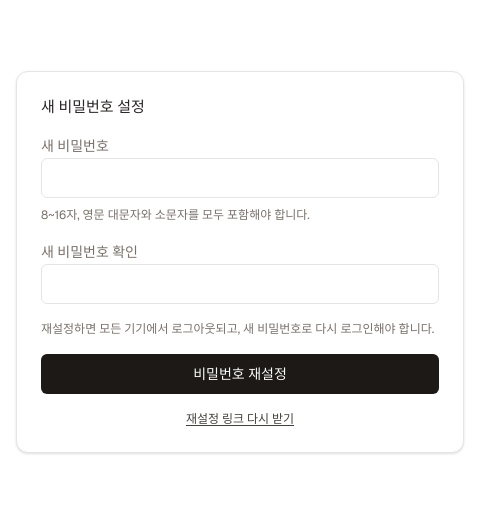
it: ResetPasswordPage › shows the server's sentence for a spent link and stays on the page
The width and height of the screenshot is (481, 526).
Step 1. Type "NewPassw0rd" into the password field labelled "새 비밀번호" → (240, 178), box [41,158,439,198]
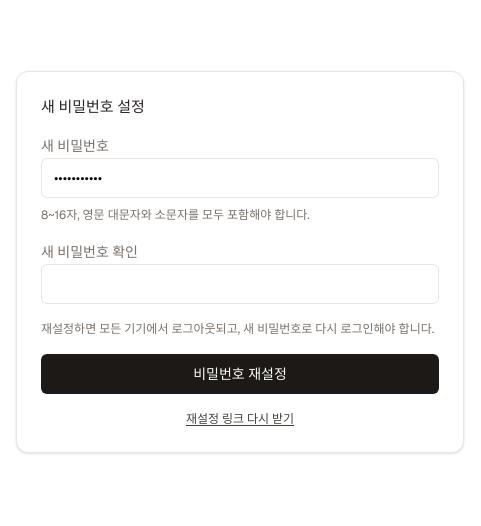
Step 2. Type "NewPassw0rd" into the password field labelled "새 비밀번호 확인" → (240, 284), box [41,264,439,304]
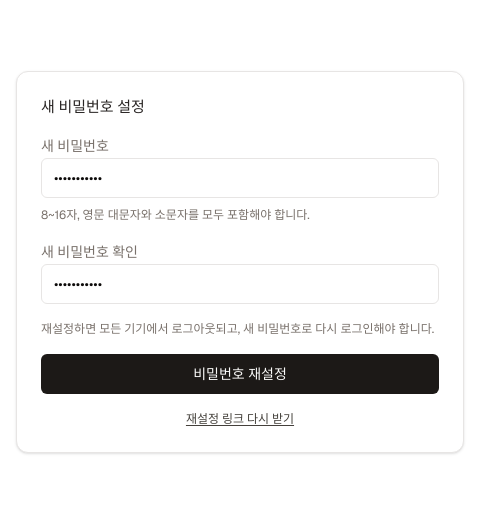
Step 3. Click the button "비밀번호 재설정" → (240, 374), box [41,354,439,394]
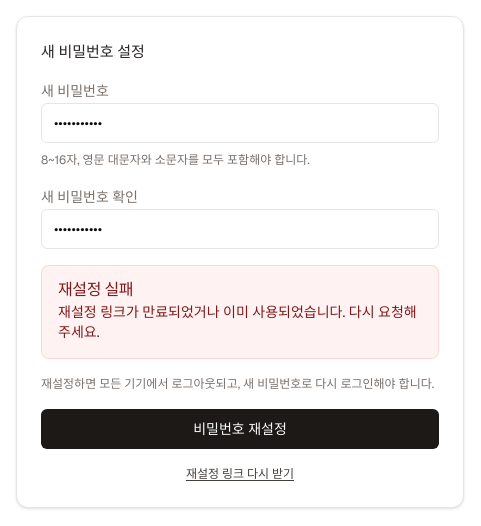
Expected: the button "비밀번호 재설정" is shown, [41,409,439,449]
Expected: the text "재설정 링크가 만료되었거나 이미 사용되었습니다. 다시 요청해 주세요." is shown, [58,302,422,342]
